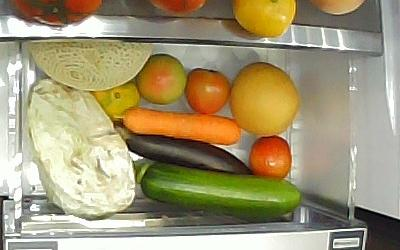cabbage: (27, 79, 136, 217)
carrot: (124, 106, 241, 146)
eggplant: (117, 127, 253, 176)
melon: (27, 38, 153, 90)
pear: (229, 61, 301, 137)
prune: (248, 136, 292, 180)
tangerine: (91, 80, 141, 119)
tomato: (136, 53, 187, 104), (186, 68, 230, 115)
zucchini: (132, 161, 302, 215)
